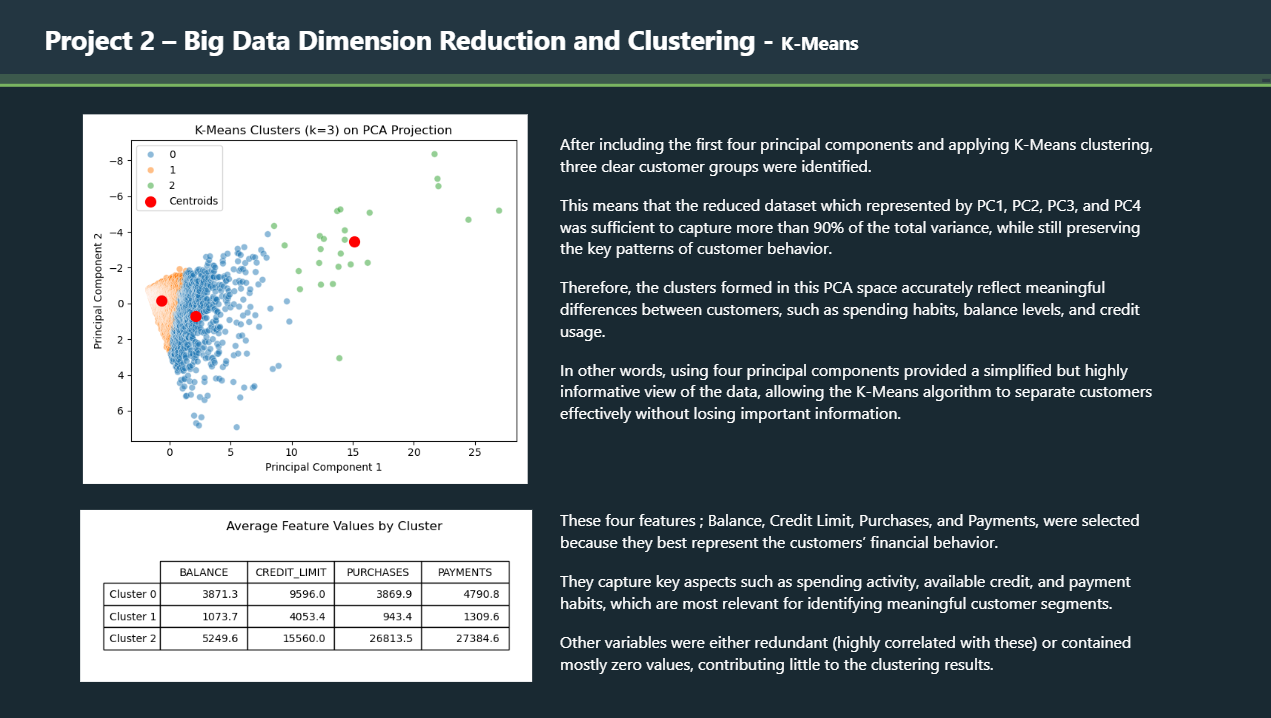

This screenshot's page, from the dashboard's own definition file:
{"tool":"powerbi","page":{"name":"K-Means","canvas":[1280,720],"ordinal":3},"visuals":[{"type":"textbox","box":[0,75.6,1280.2,12.8],"z":1000},{"type":"pythonVisual","fields":{"Values":["pca_df.PC1","pca_df.PC2","pca_df.PC3","pca_df.PC4"]},"box":[58.3,110.1,503.2,380.1],"z":3000},{"type":"textbox","box":[560.5,129.1,615.1,348.8],"z":4000},{"type":"pythonVisual","fields":{"Values":["final.BALANCE","final.CREDIT_LIMIT","final.PURCHASES","final.PAYMENTS","final.cluster"]},"box":[79.9,490.2,462.2,213.8],"z":5000},{"type":"textbox","box":[560.5,504.7,597.7,200],"z":6000},{"type":"textbox","box":[0,0,1280.2,84.9],"z":7000}]}

Visuals, with their boxes in screenshot pixels (x1, y1, x2, y2), scaled from the page's 1280x720 canvas onto the 1271x718 screenshot:
textbox: Rect(0, 75, 1270, 88)
pythonVisual - pca_df.PC1 x pca_df.PC2: Rect(58, 110, 558, 489)
textbox: Rect(557, 129, 1167, 477)
pythonVisual - final.BALANCE x final.CREDIT_LIMIT: Rect(79, 489, 538, 702)
textbox: Rect(557, 503, 1150, 703)
textbox: Rect(0, 0, 1270, 85)
